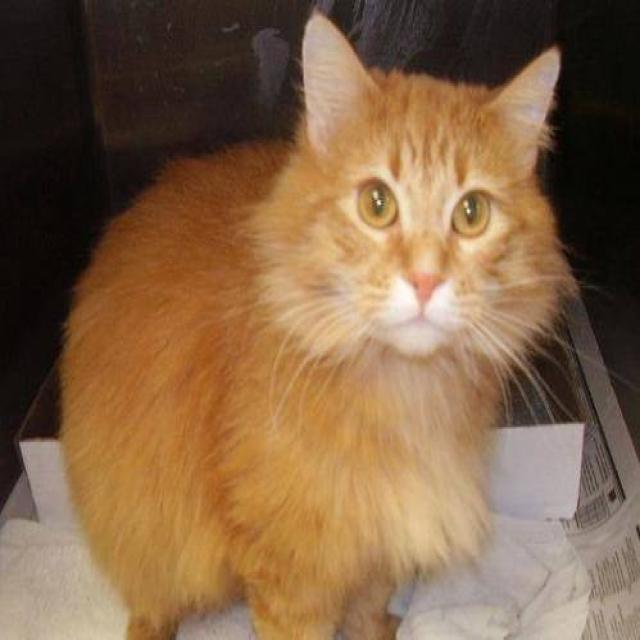cat: (55, 1, 588, 638)
